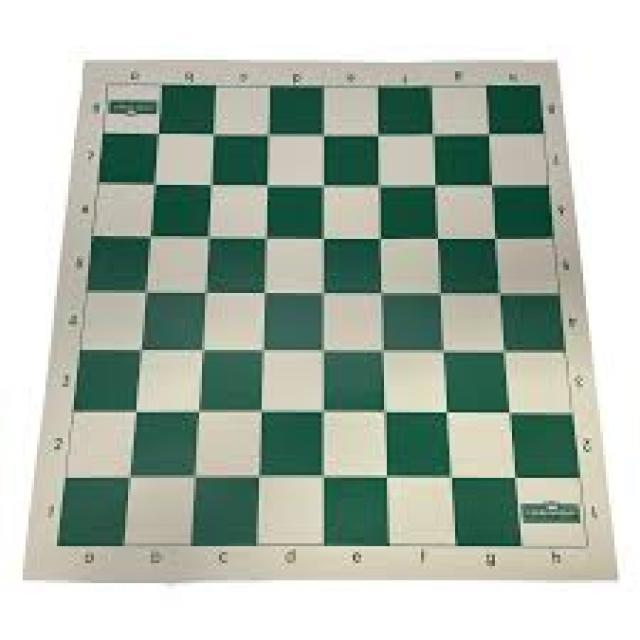chess-table-corners: (22, 512, 94, 576), (554, 518, 616, 570), (81, 61, 136, 110), (510, 65, 562, 111)
